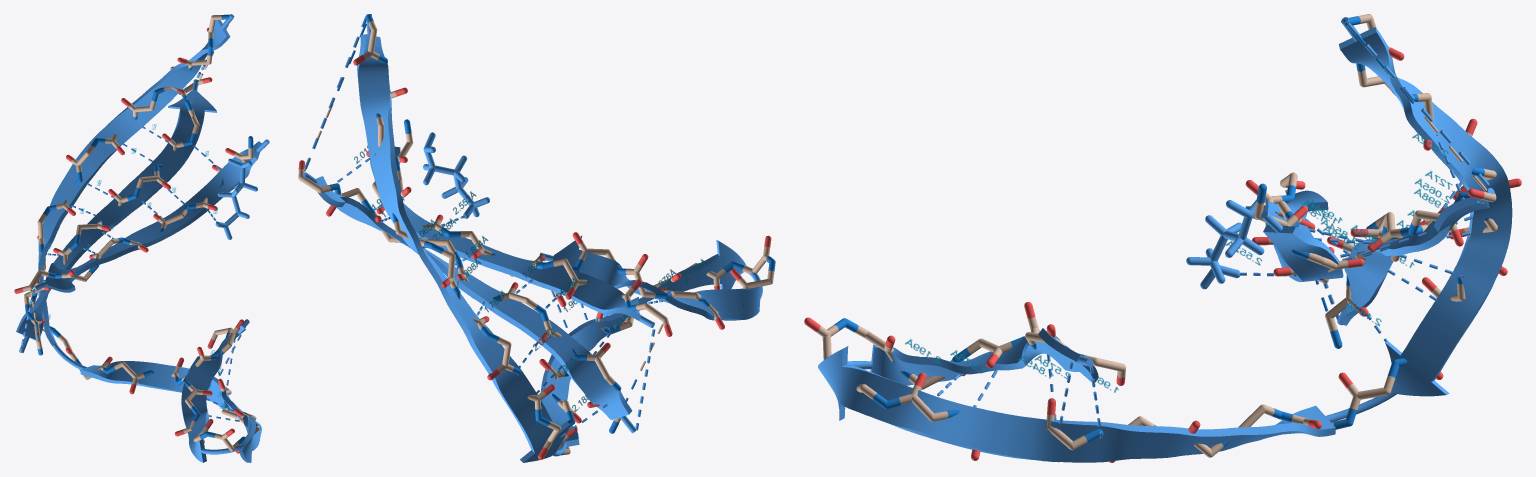
File: 7rsa_beta146_betasheet.glb
3 views of the same model, side by side, from view 1: azimuth 30°, elevation 25°; view 2: azimuth 150°, elevation 25°; view 3: azimuth 270°, elevation 25° (orthographic). The views are drawn at different scales.
Parts seen in each view (by area): view 1: New_Node; view 2: New_Node; view 3: New_Node.
Part boxes in pixels (left/top/right/bottom): New_Node: left=14, top=14, right=269, bottom=462; New_Node: left=298, top=14, right=775, bottom=462; New_Node: left=804, top=14, right=1521, bottom=462.
Bounding box in the file's own units: 758533 × 941666 × 1135858.
3 materials, 1 textured.
